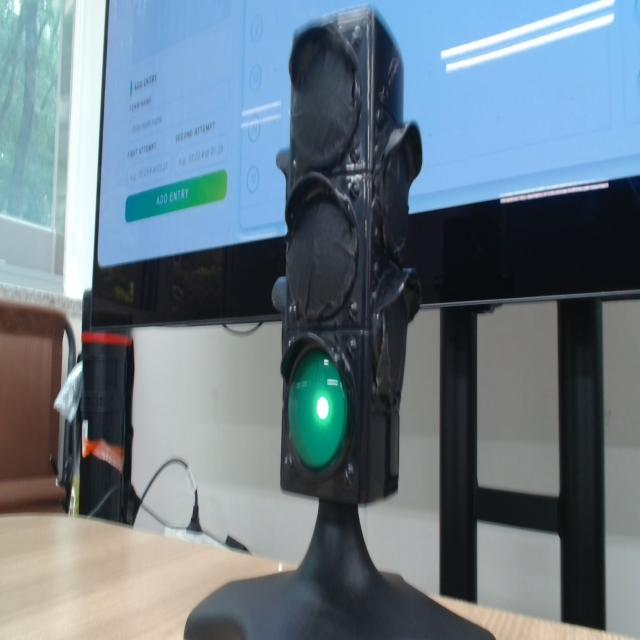green_light: (288, 350, 347, 470), (316, 396, 329, 420)
